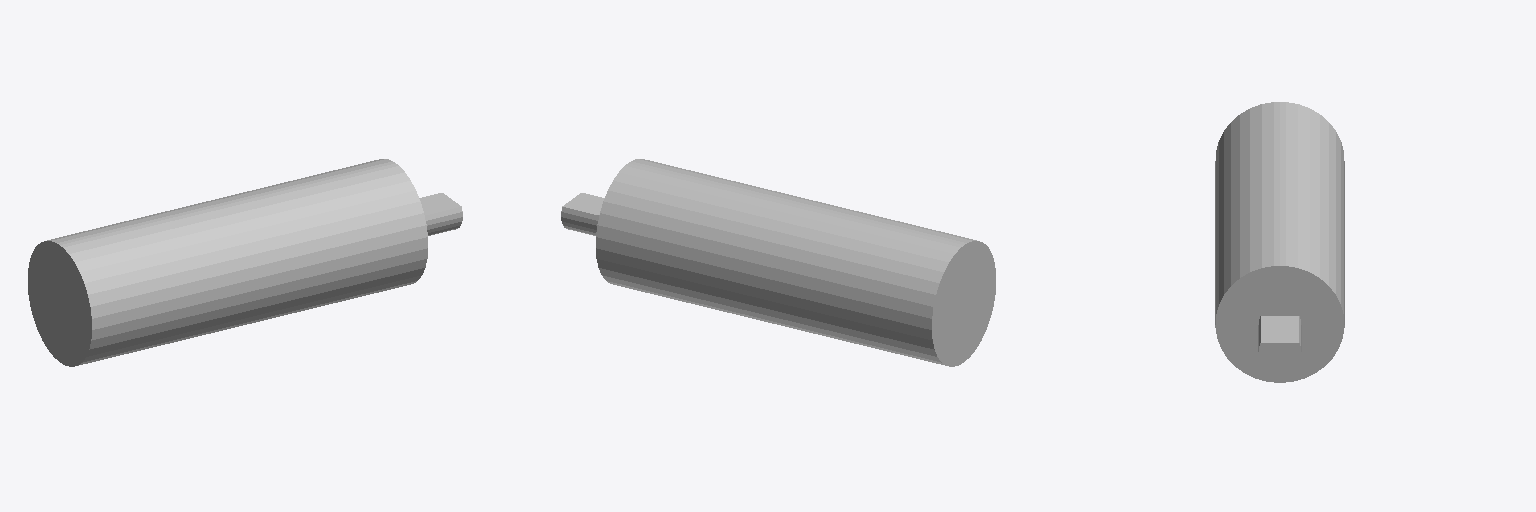
File: colias_motor.obj
3 views of the same model, side by side, from view 1: azimuth 30°, elevation 25°; view 2: azimuth 150°, elevation 25°; view 3: azimuth 270°, elevation 25° (orthographic).
Visible parts, largest first — view 1: motor.fbx/RootNode001/RootNode001; view 2: motor.fbx/RootNode001/RootNode001; view 3: motor.fbx/RootNode001/RootNode001.
Boxes of the visible parts, x1,y1,x2,y2 form: motor.fbx/RootNode001/RootNode001: [28, 159, 462, 366]; motor.fbx/RootNode001/RootNode001: [561, 159, 995, 366]; motor.fbx/RootNode001/RootNode001: [1215, 102, 1344, 382].
Bounding box in the file's own units: 210 × 60 × 59.93.